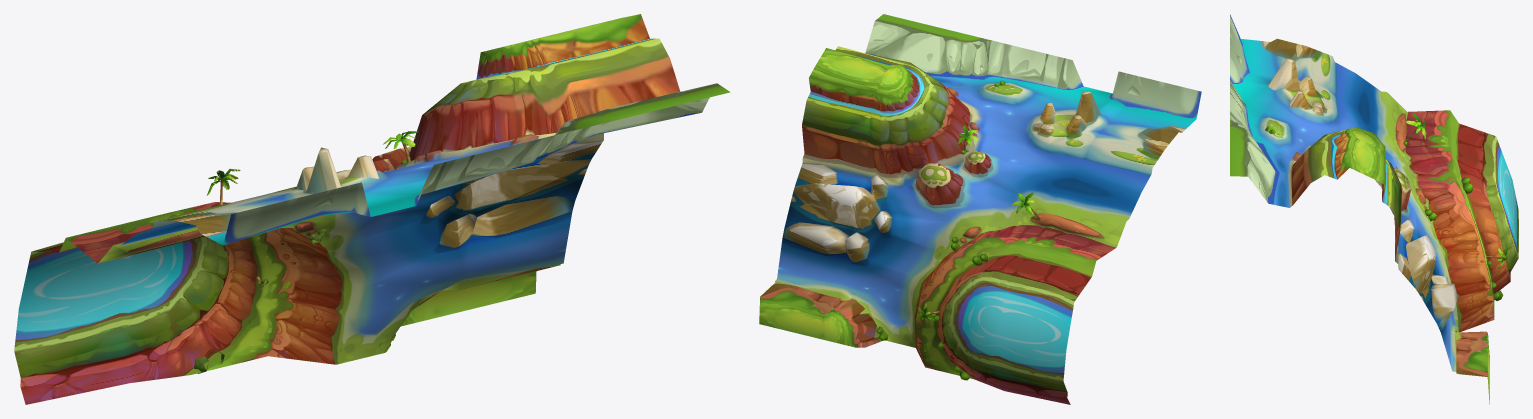
The model's file is Chapter6Model2.FBX.
3 views of the same model, side by side, from view 1: azimuth 30°, elevation 25°; view 2: azimuth 150°, elevation 25°; view 3: azimuth 270°, elevation 25° (orthographic). The views are drawn at different scales.
Parts seen in each view (by area): view 1: Chapter6Model2Model1, Chapter6Model2Model2; view 2: Chapter6Model2Model1, Chapter6Model2Model2; view 3: Chapter6Model2Model1, Chapter6Model2Model2.
Part boxes in pixels (x1,y1,x2,y2): Chapter6Model2Model1: (14,14,730,404); Chapter6Model2Model2: (194,131,417,373); Chapter6Model2Model1: (759,14,1201,404); Chapter6Model2Model2: (876,80,1040,380); Chapter6Model2Model1: (1230,14,1518,404); Chapter6Model2Model2: (1265,113,1506,300).
Bounding box in the file's own units: 970 × 730 × 670.
